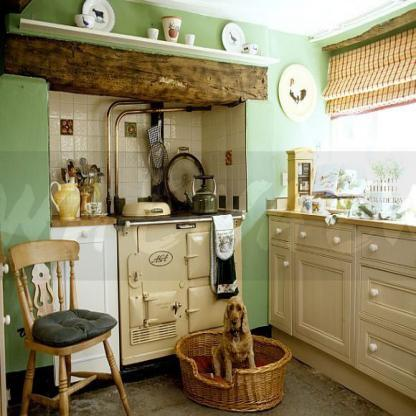chair: (0, 234, 147, 416)
clock: (157, 147, 211, 224)
